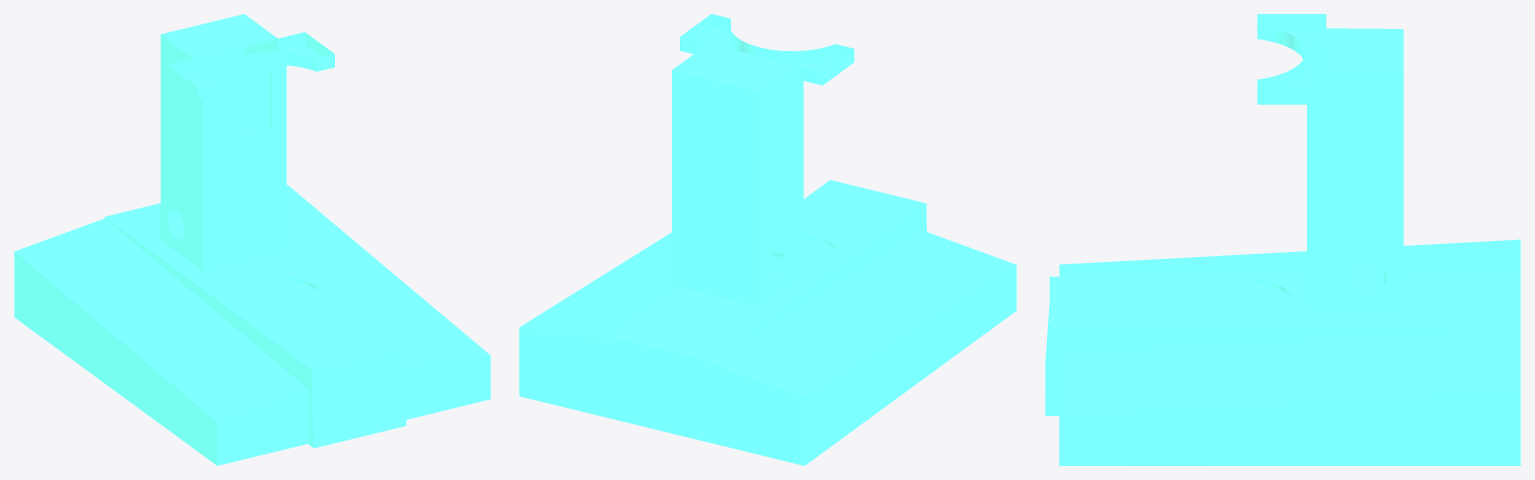
Rendered from hbase.gltf.
3 renders of one model, left to right at view 1: azimuth 30°, elevation 25°; view 2: azimuth 150°, elevation 25°; view 3: azimuth 270°, elevation 25°, orthographic. The views are drawn at different scales.
Parts seen in each view (by area): view 1: base1, base3; view 2: base1, base3; view 3: base1, base3.
Part boxes in pixels (x1=…): base1: x1=14, y1=185, x2=490, y2=465; base3: x1=160, y1=14, x2=334, y2=271; base1: x1=519, y1=180, x2=1016, y2=465; base3: x1=672, y1=14, x2=854, y2=306; base1: x1=1045, y1=239, x2=1520, y2=465; base3: x1=1257, y1=14, x2=1403, y2=309.
Size of the model in its own units: 0.1299 by 0.1353 by 0.1722.
